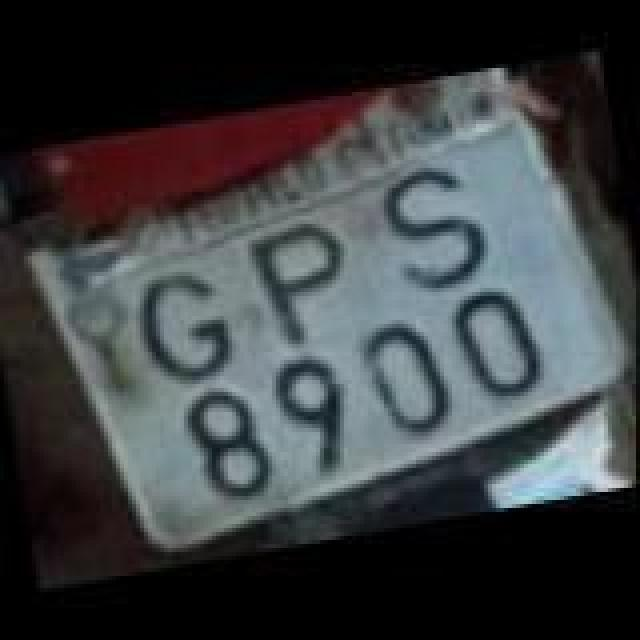8: (176, 380, 276, 508)
9: (268, 344, 360, 480)
G: (130, 258, 242, 390)
O: (356, 310, 456, 442), (444, 276, 544, 404)
P: (242, 210, 362, 350)
S: (374, 152, 494, 296)
